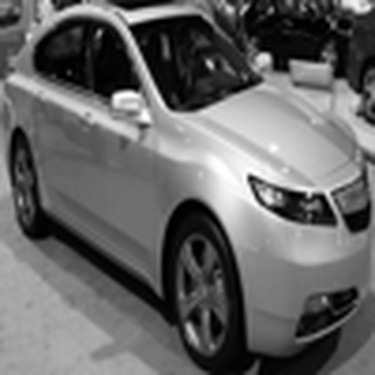car: (1, 16, 369, 371), (219, 6, 345, 79), (329, 17, 372, 131), (4, 1, 34, 67)
